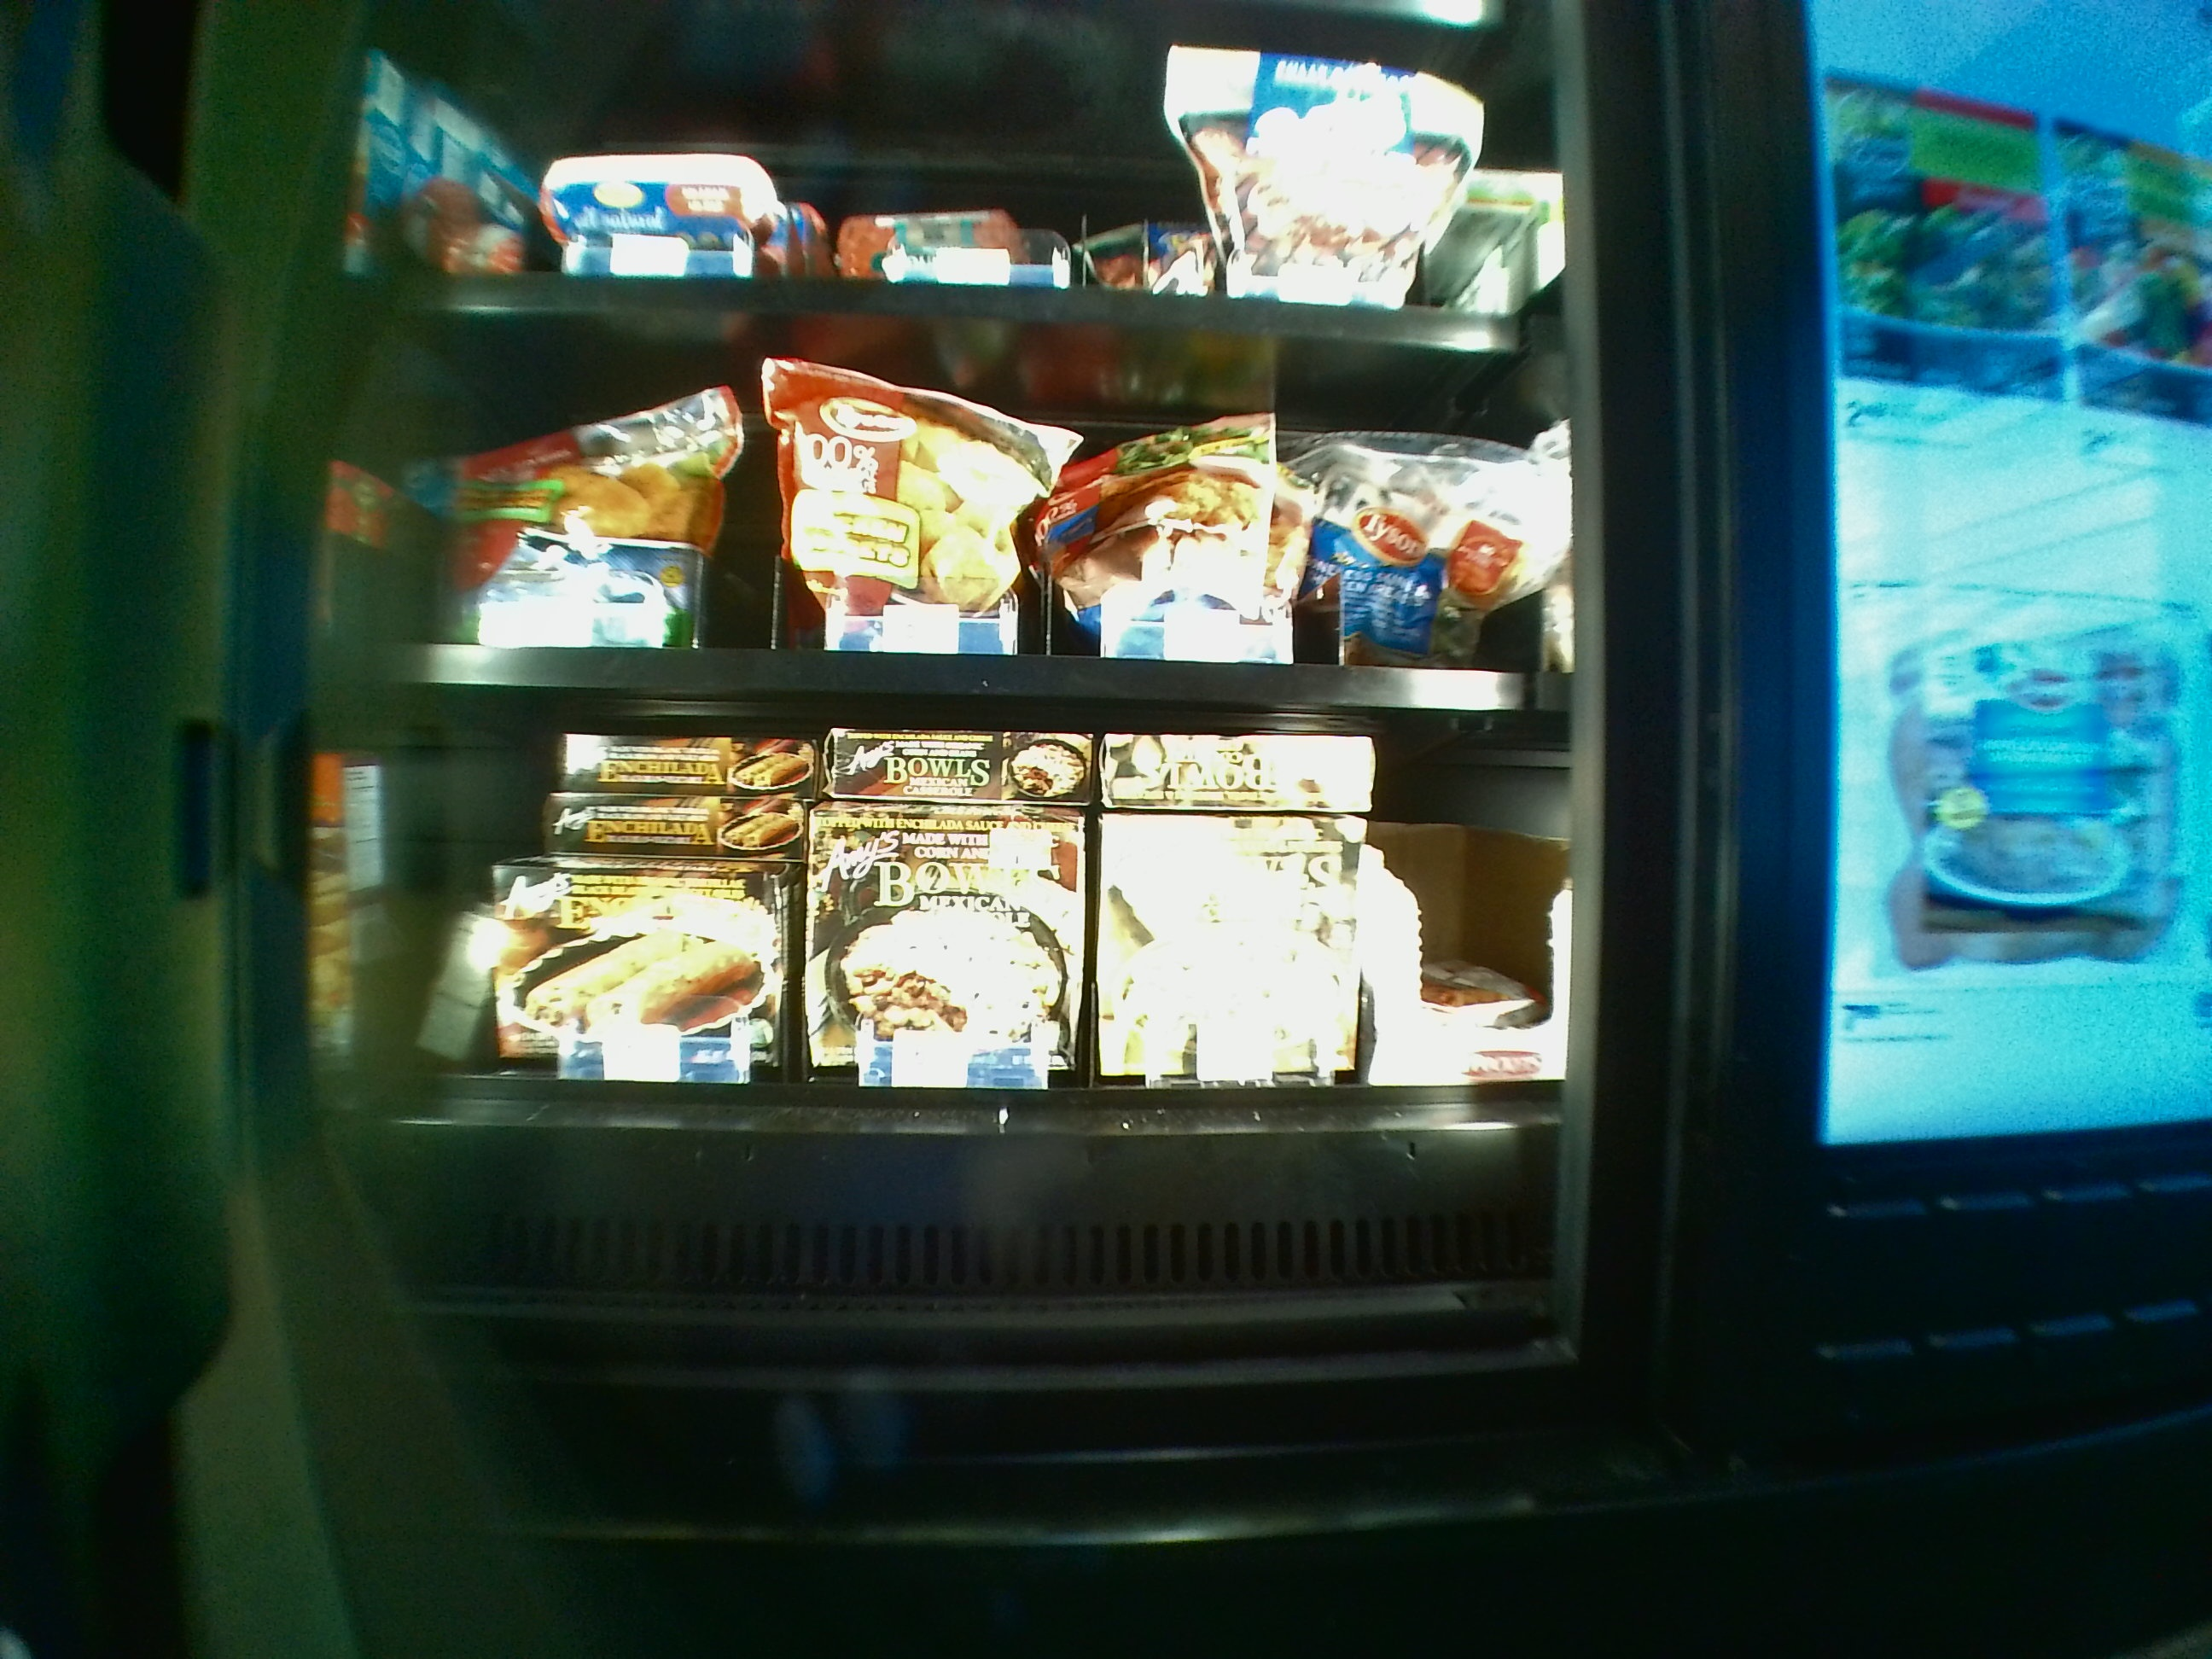shelf: (354, 718, 1561, 1324), (359, 312, 1548, 706)
